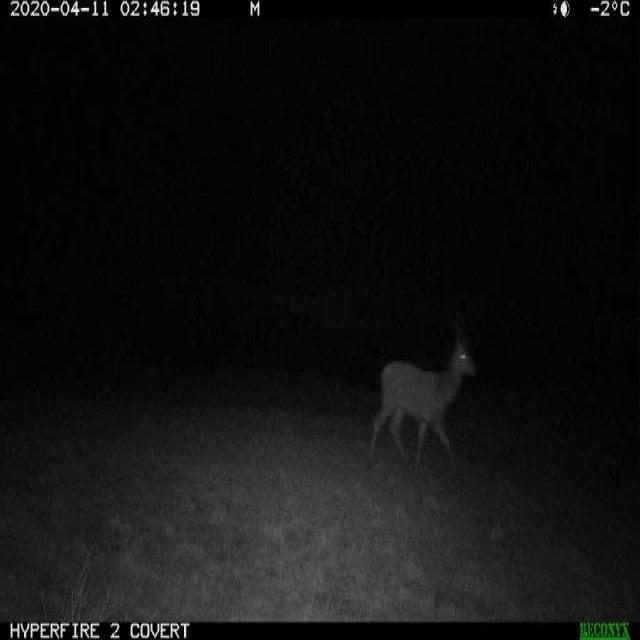deer: (368, 326, 486, 485)
